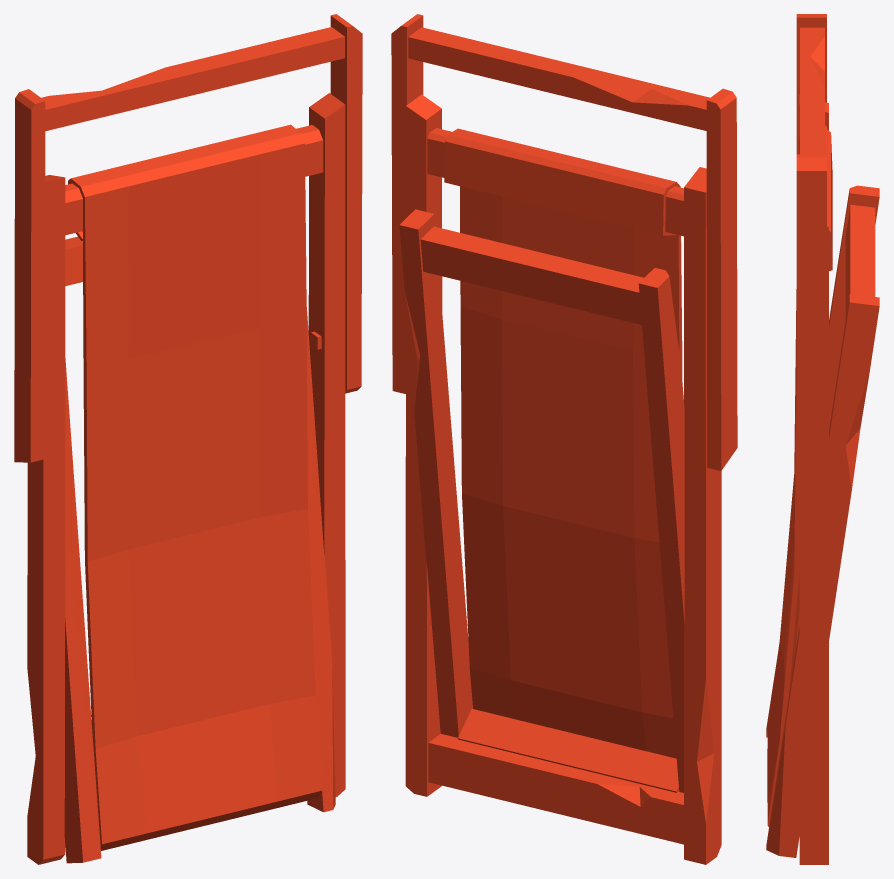
File: SM_Lounger_C_Folded_City.fbx
3 views of the same model, side by side, from view 1: azimuth 30°, elevation 25°; view 2: azimuth 150°, elevation 25°; view 3: azimuth 270°, elevation 25° (orthographic). The views are drawn at different scales.
Parts seen in each view (by area): view 1: SM_Lounger_C_Folded_City; view 2: SM_Lounger_C_Folded_City; view 3: SM_Lounger_C_Folded_City.
Boxes of the visible parts, x1,y1,x2,y2 form: SM_Lounger_C_Folded_City: (14, 14, 362, 864); SM_Lounger_C_Folded_City: (391, 14, 737, 864); SM_Lounger_C_Folded_City: (766, 14, 879, 864).
Size of the model in its own units: 0.6383 by 1.41 by 0.2032.
